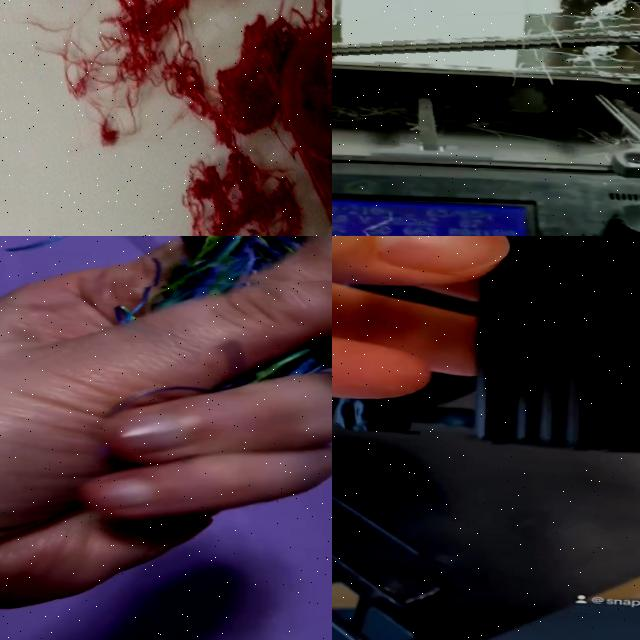spaghetti: (0, 0, 332, 236), (332, 0, 640, 90), (332, 76, 640, 163), (114, 236, 332, 300), (233, 345, 332, 383)
